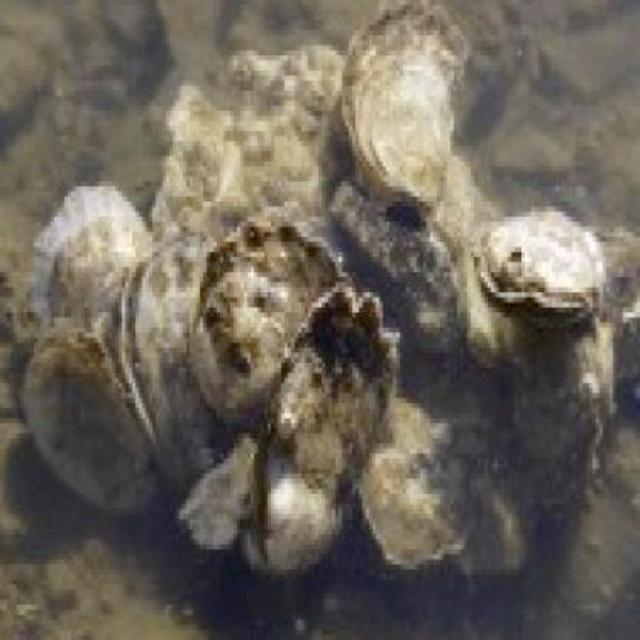Oyster-Closed: (153, 44, 617, 571), (195, 223, 346, 426), (120, 233, 218, 496), (343, 6, 474, 202), (352, 409, 502, 571), (23, 328, 144, 506), (31, 189, 156, 342), (480, 207, 605, 323)
Oyster-Open: (244, 281, 398, 573)
